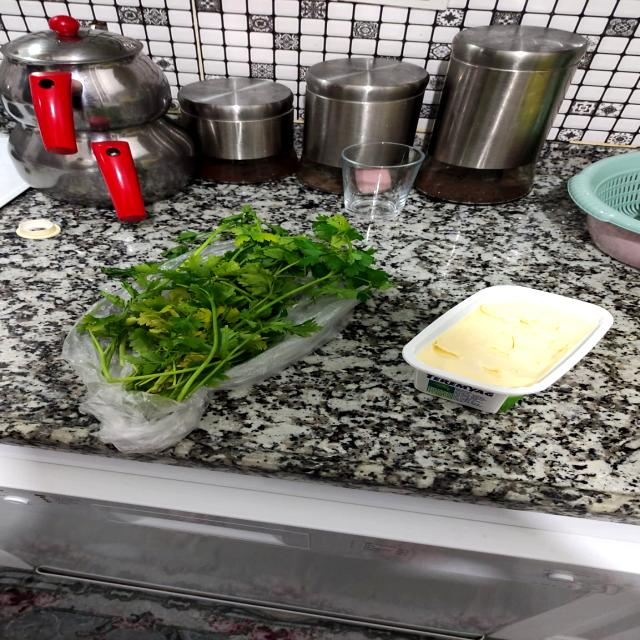margarine: (392, 268, 622, 412)
parsley: (76, 207, 405, 405)
